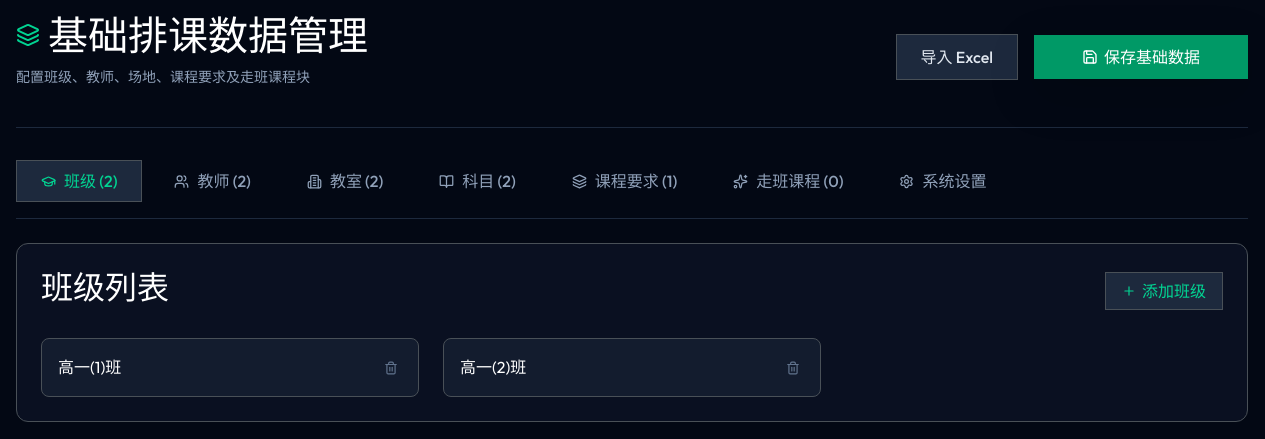
Scenario: CatalogPage › shows the catalog save loading state and prevents a second submission while pending
Expected: the field showing "高一(1)班" is shown, x1=58 y1=355 x2=380 y2=380
Click the button "保存基础数据".
click(1141, 57)  # box x1=1034 y1=35 x2=1248 y2=79
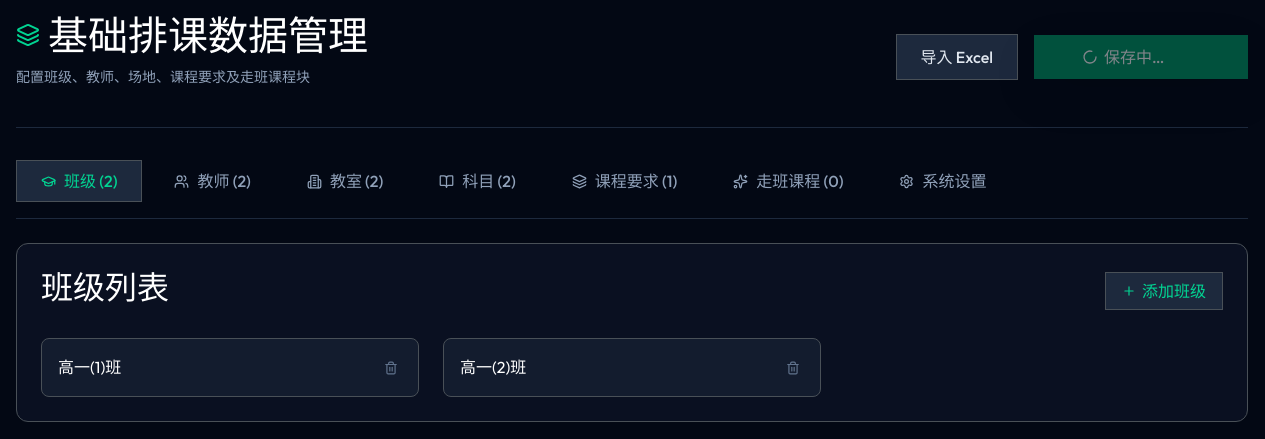
Now the button "保存中…" is disabled
Click the button "保存中…".
click(1141, 57)  # box x1=1034 y1=35 x2=1248 y2=79
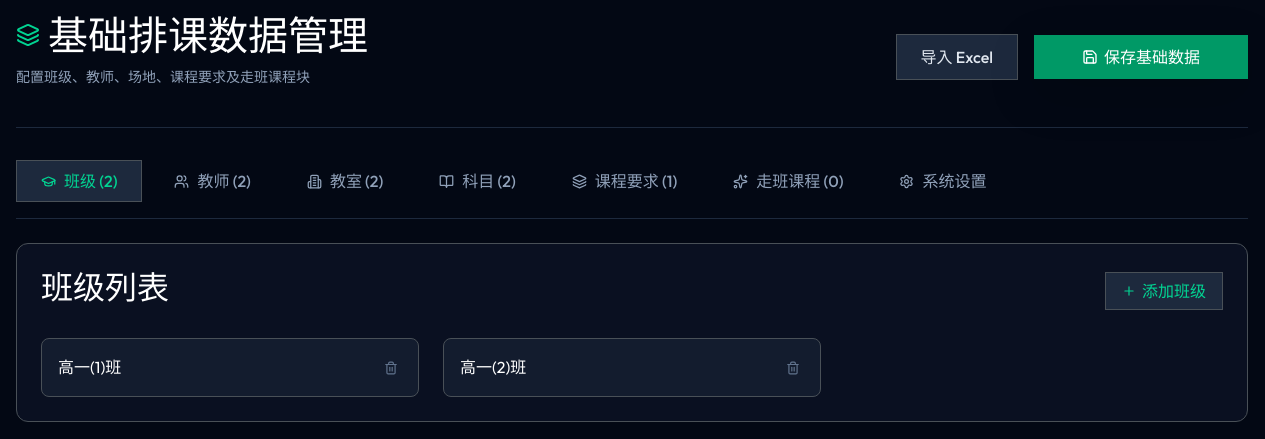
Now the button "保存基础数据" is shown, box x1=1034 y1=35 x2=1248 y2=79
